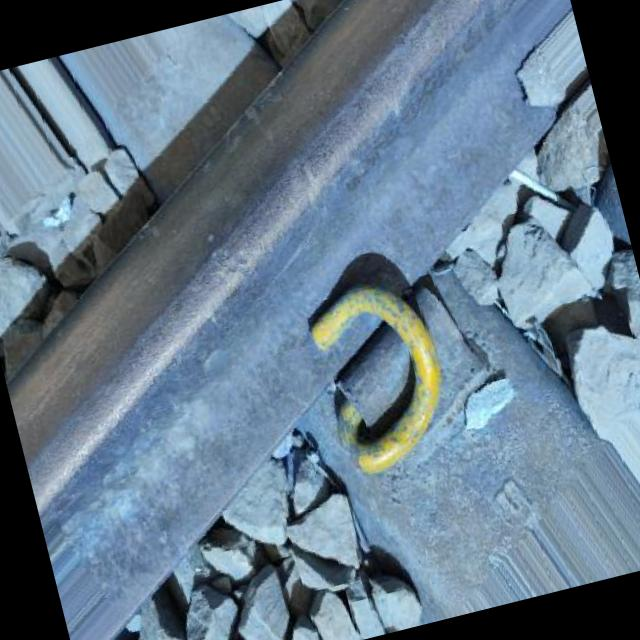defective: (0, 0, 609, 555)
